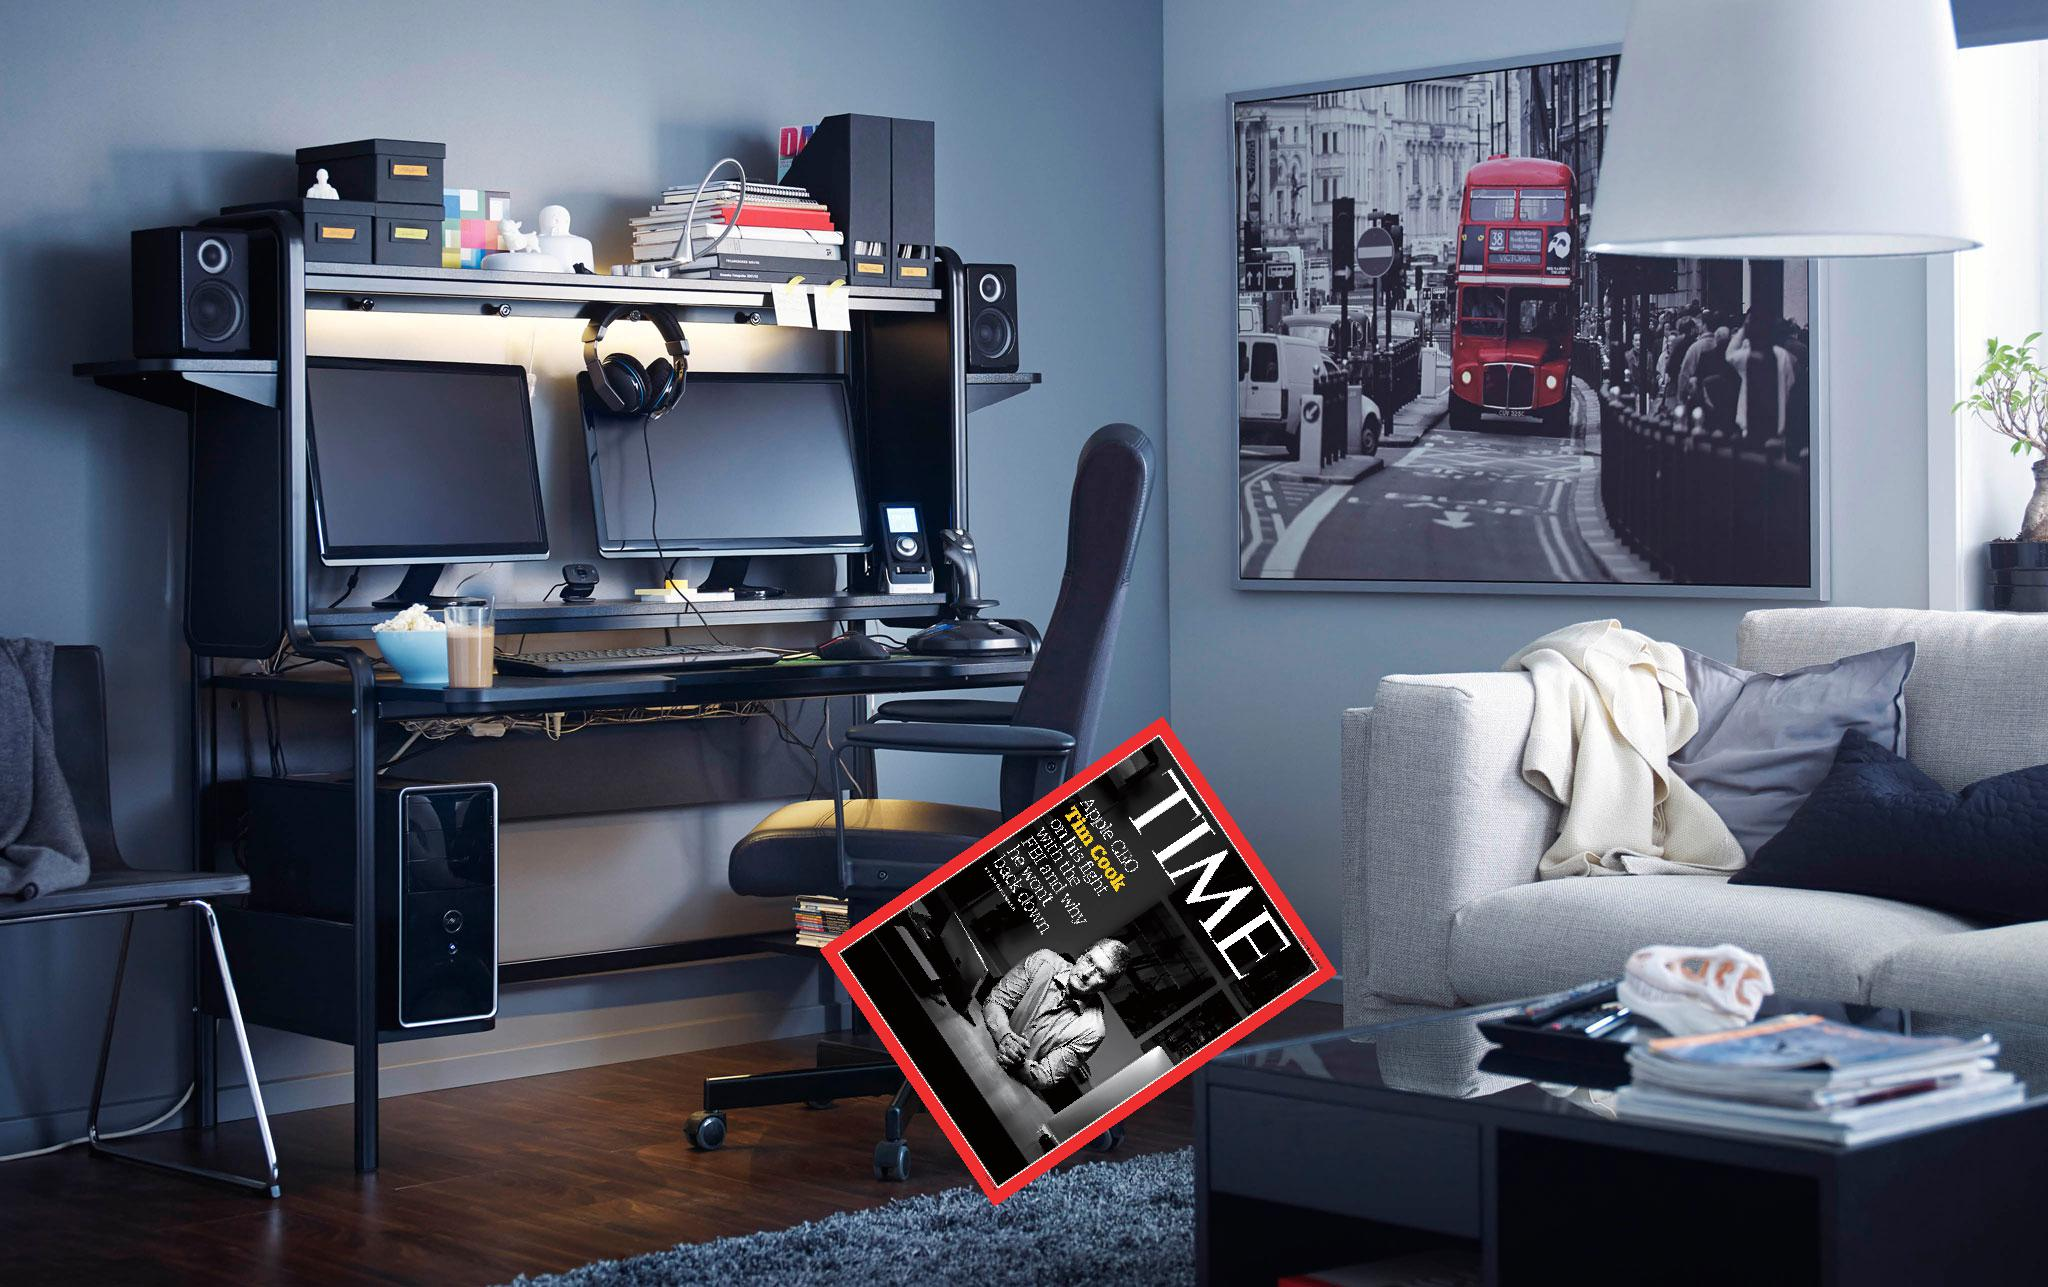times: (814, 712, 1340, 1211)
